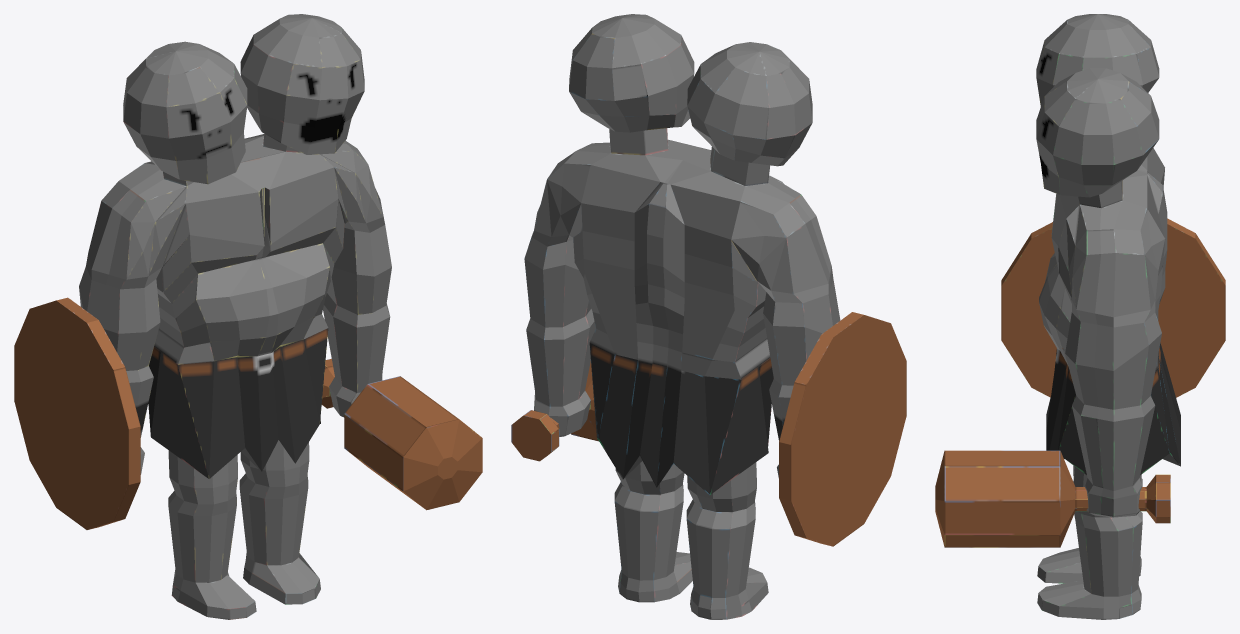
File: knuckleheads.obj
The picture shows the model from 3 angles, left to right: view 1: azimuth 30°, elevation 25°; view 2: azimuth 150°, elevation 25°; view 3: azimuth 270°, elevation 25°; orthographic projection. The views are drawn at different scales.
Visible parts, largest first — view 1: body, head, shield, leg, club; view 2: body, head, shield, leg, club; view 3: body, head, shield, club, leg.
Part boxes in pixels (left/top/right/bottom): body: left=79, top=134, right=391, bottom=478; head: left=123, top=14, right=364, bottom=184; shield: left=14, top=297, right=140, bottom=529; leg: left=168, top=440, right=320, bottom=619; club: left=321, top=358, right=482, bottom=510; body: left=524, top=128, right=840, bottom=494; head: left=569, top=14, right=812, bottom=166; shield: left=779, top=312, right=906, bottom=546; leg: left=614, top=461, right=768, bottom=619; club: left=511, top=361, right=598, bottom=461; body: left=1039, top=148, right=1180, bottom=517; head: left=1036, top=14, right=1159, bottom=197; shield: left=1001, top=218, right=1225, bottom=397; club: left=935, top=450, right=1170, bottom=547; leg: left=1037, top=465, right=1142, bottom=619.
Bounding box in the file's own units: 0.7544 × 1.23 × 0.5957.
Materials: 1 (1 with a texture image).
